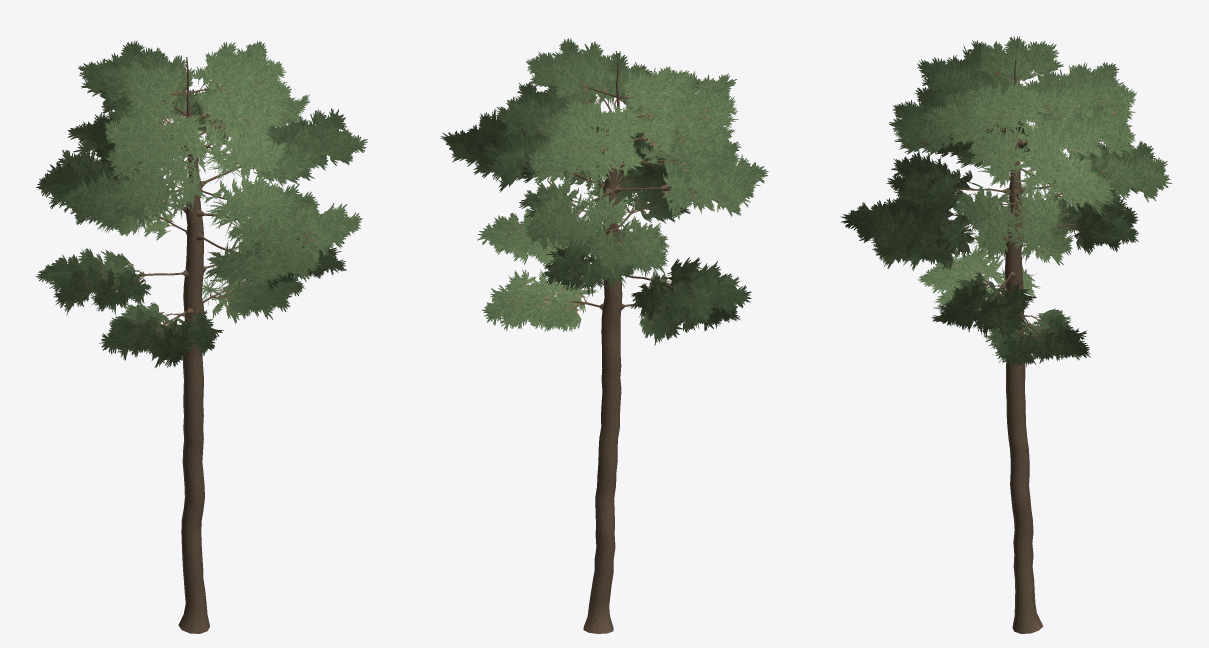
The model's file is Scenery_Pine_B.fbx.
3 views of the same model, side by side, from view 1: azimuth 30°, elevation 25°; view 2: azimuth 150°, elevation 25°; view 3: azimuth 270°, elevation 25° (orthographic). The views are drawn at different scales.
Parts seen in each view (by area): view 1: Scenery_Pine_B_LOD0; view 2: Scenery_Pine_B_LOD0; view 3: Scenery_Pine_B_LOD0.
Boxes of the visible parts, x1=… form: Scenery_Pine_B_LOD0: x1=36, y1=40, x2=367, y2=633; Scenery_Pine_B_LOD0: x1=440, y1=38, x2=768, y2=633; Scenery_Pine_B_LOD0: x1=840, y1=36, x2=1172, y2=633.
Size of what is drawn, in the model's own units: 11.96 by 19.89 by 11.56.
